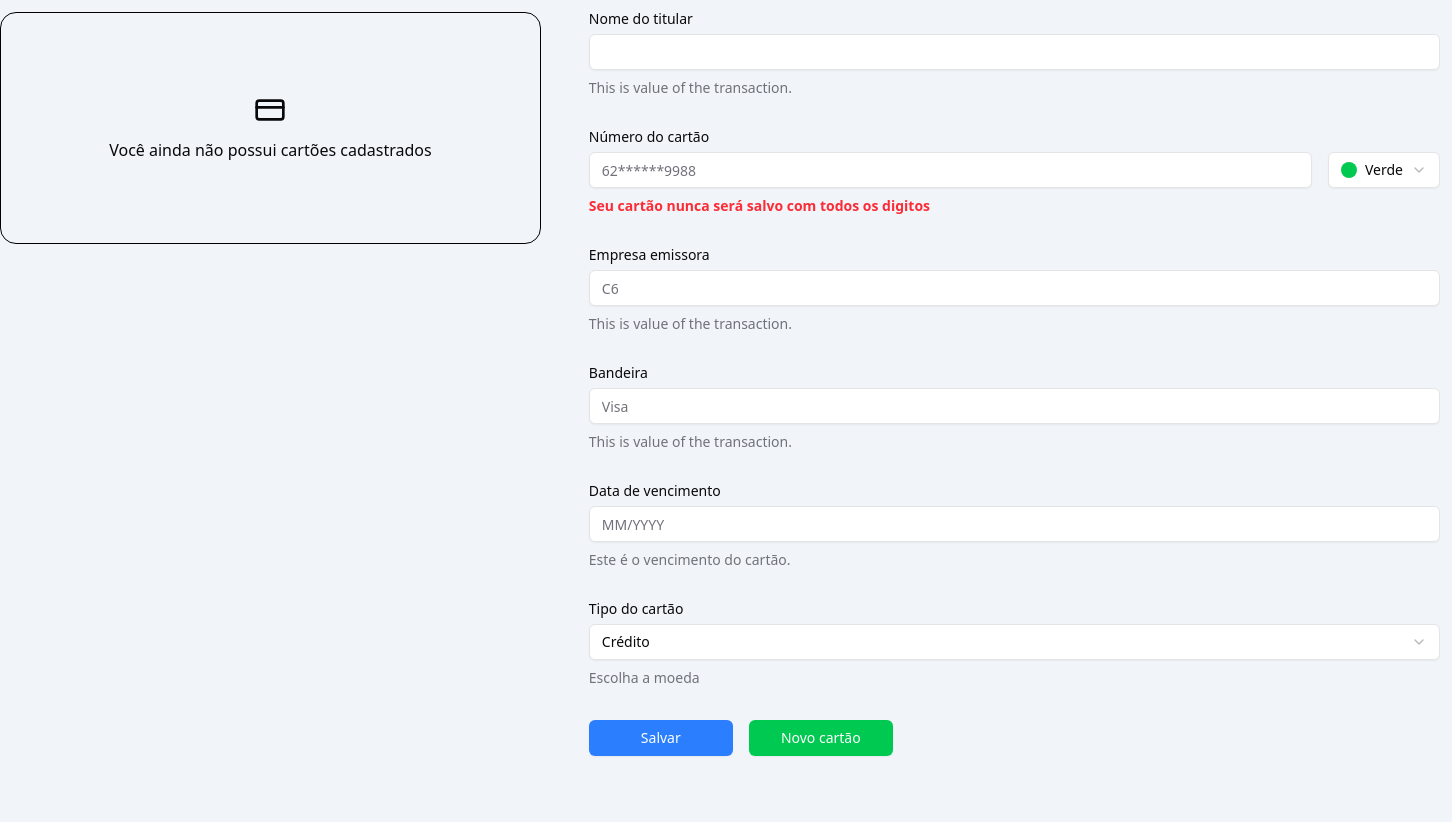
Scenario: CreditCardForms › permite selecionar a cor do cartão
What coordinates should you click on to do the following:
click the dropdown with test id "select-cores"
I would click on:
 (1384, 170)
Its box is [1328,152,1440,188].
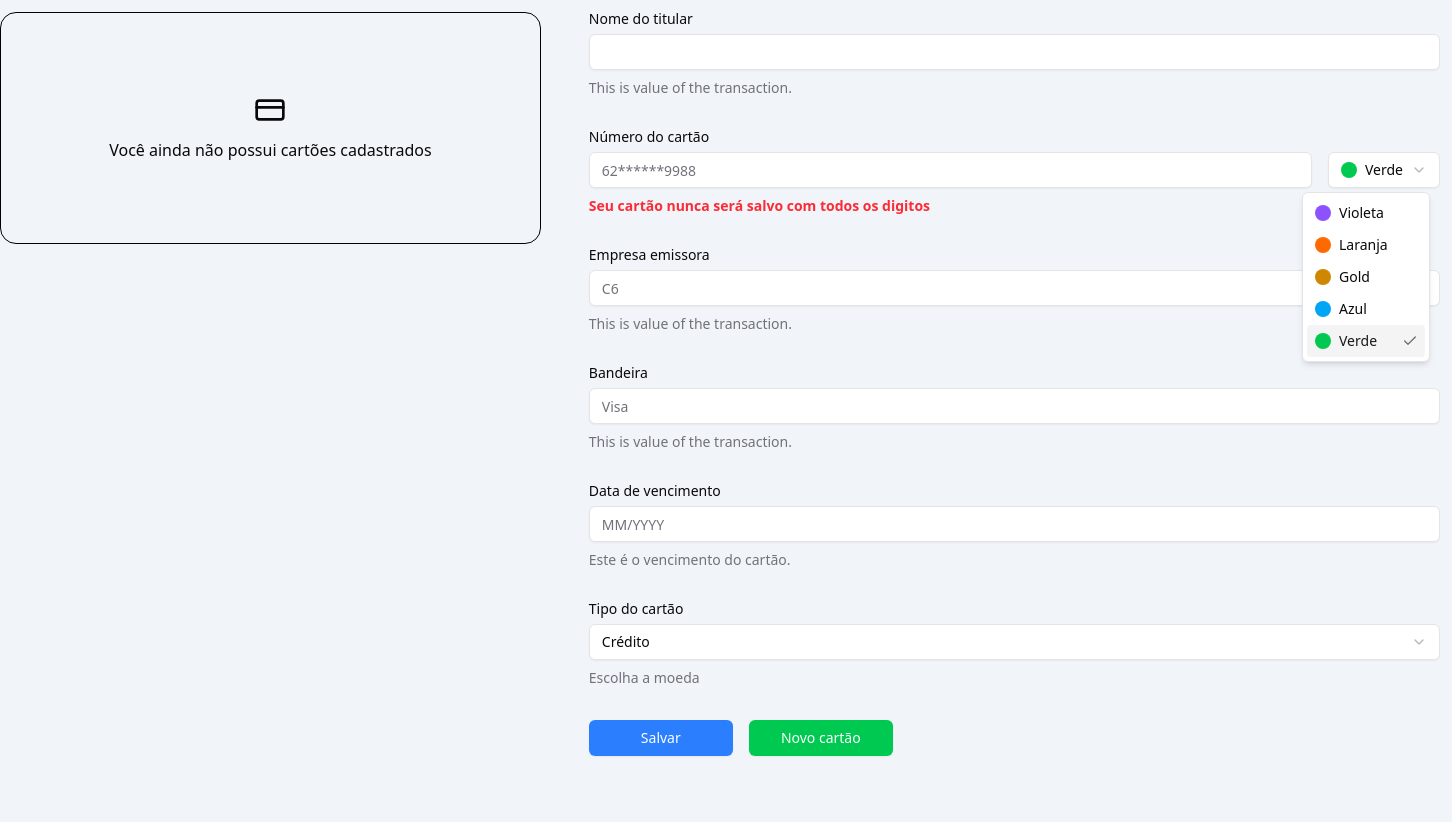
Result: the text "Azul" is shown at [1339,299,1367,319]
What coordinates should you click on to do the following:
click the option "Azul"
I would click on:
 (1341, 308)
Its box is [1315,299,1367,318].
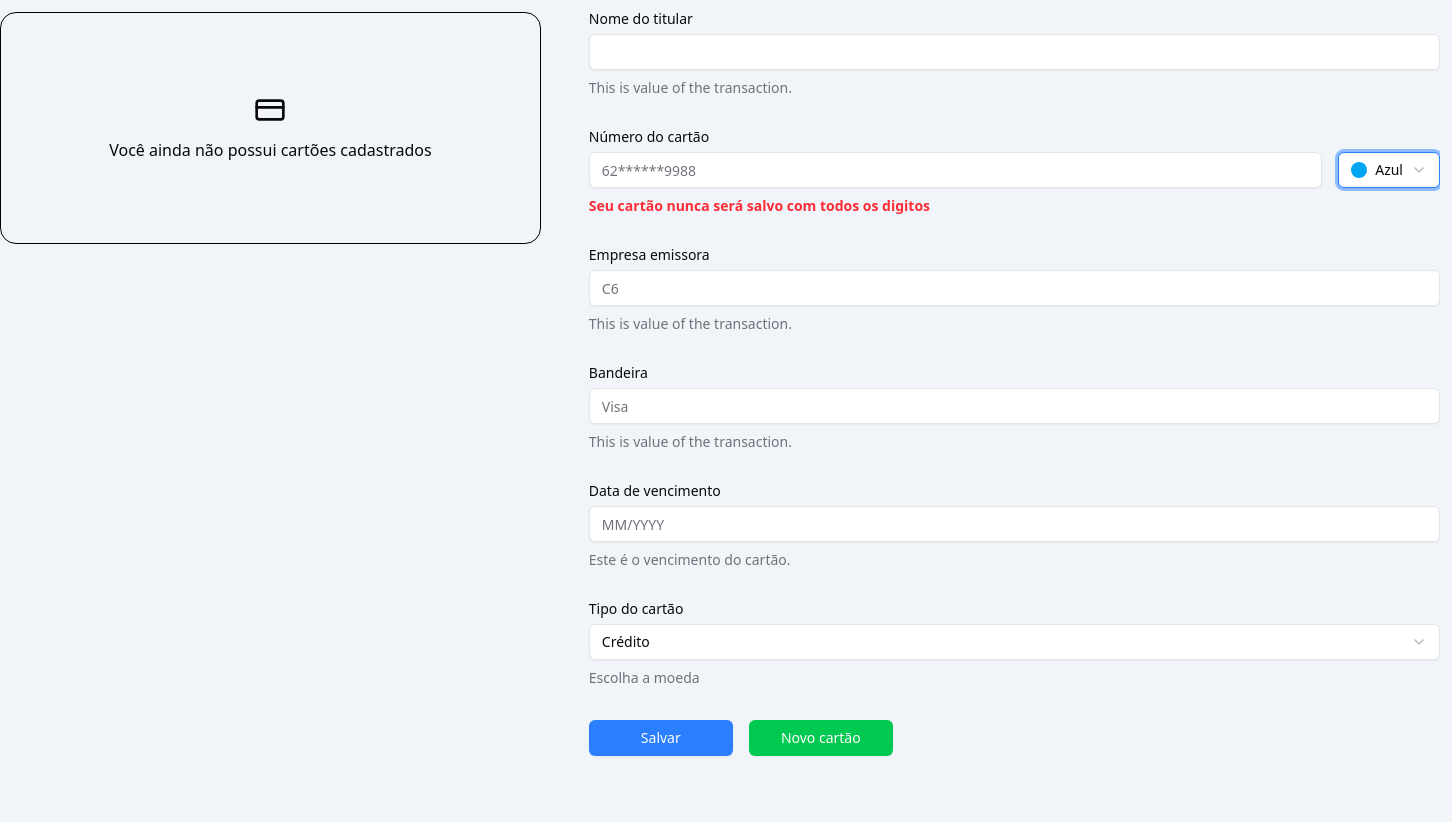
Result: the dropdown with test id "select-cores" reads "Azul" at [1338,152,1440,188]
